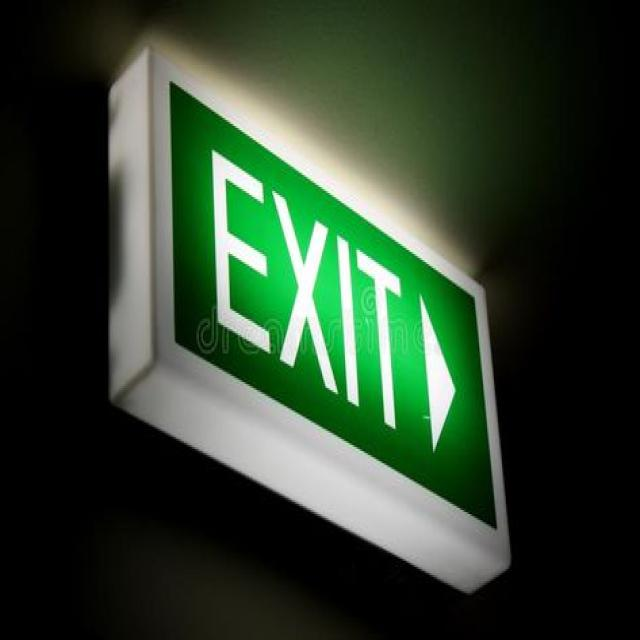exit_sign: (132, 12, 528, 592)
